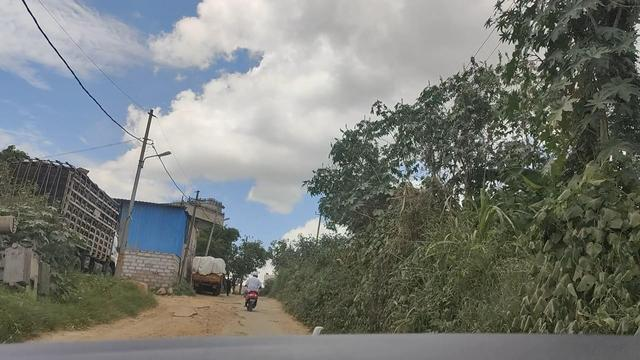HMV: (190, 253, 227, 296)
RoadDamages: (150, 305, 249, 339)
